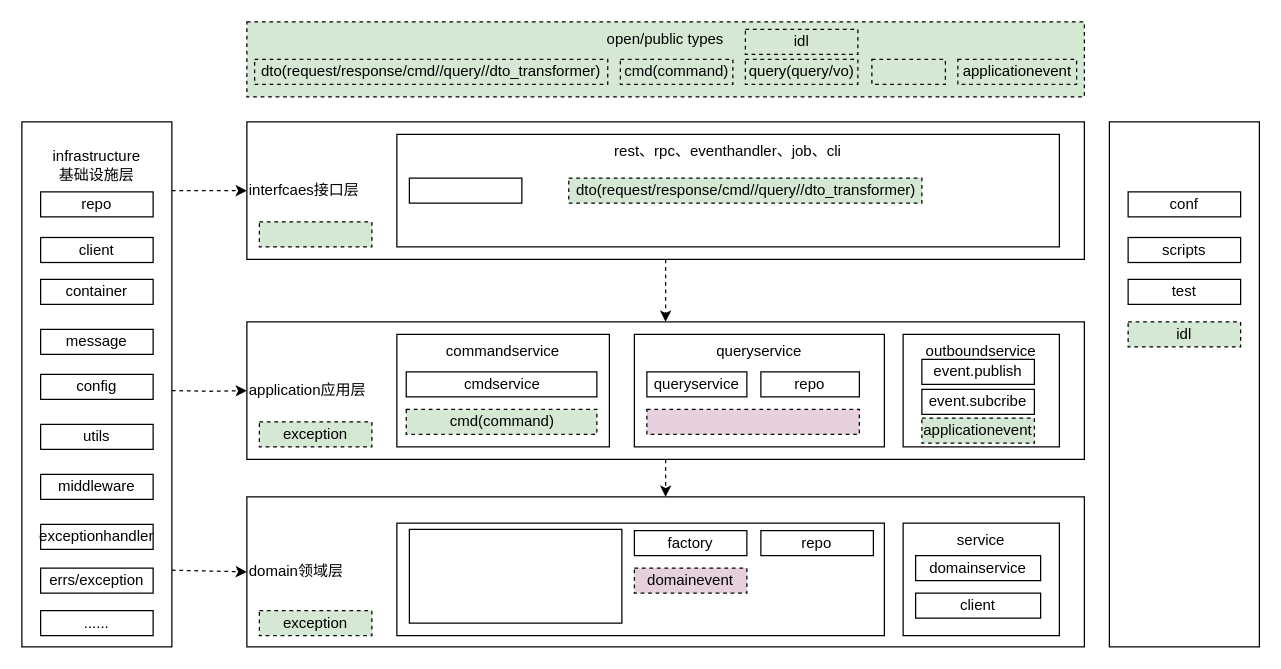
Image size: 1281x669. Some labels were removed from this diagram. The shapes that lost their labels are listed below. From the top down, each one's centre as x and y in pixels, then its label:
At pixel 908 71: "errcodes".
At pixel 465 190: "controller".
At pixel 315 234: "runtimexception".
At pixel 752 421: "query(query/vo/vo_transformer)".
At pixel 515 575: "model aggregateroot | entity | valueobject".
